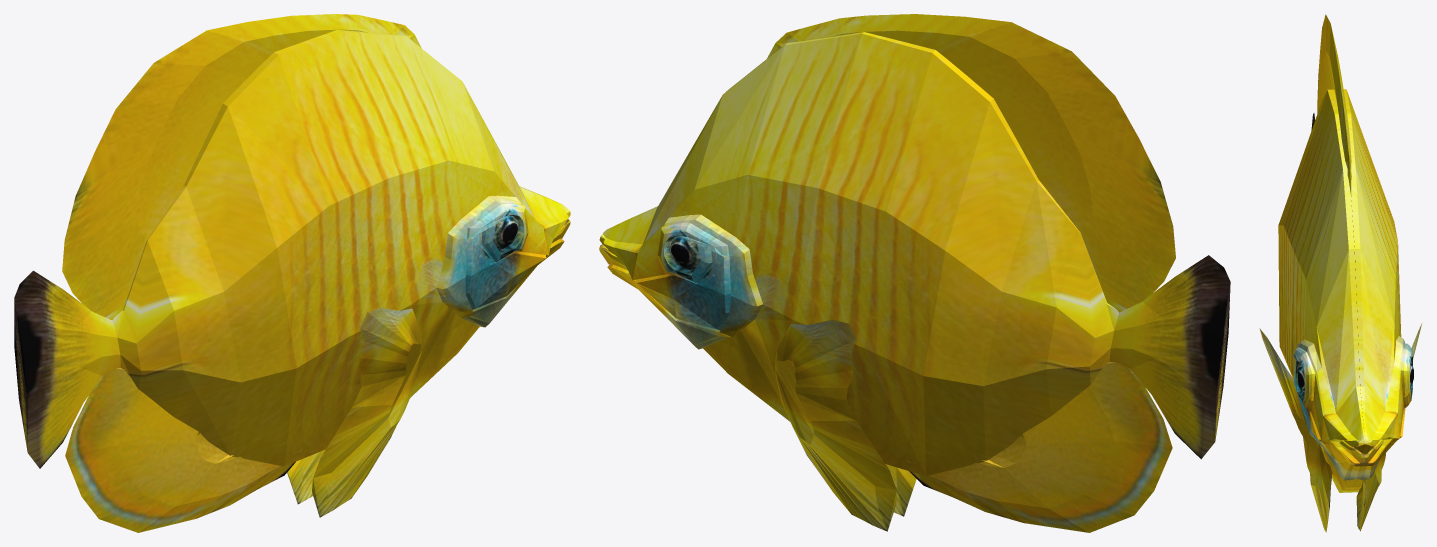
The model's file is KailinAngelFish2016Modified.fbx.
The picture shows the model from 3 angles, left to right: view 1: azimuth 30°, elevation 25°; view 2: azimuth 150°, elevation 25°; view 3: azimuth 270°, elevation 25°; orthographic projection. The views are drawn at different scales.
Visible parts, largest first — view 1: Fish—Final_3; view 2: Fish—Final_3, Fish—Final_4; view 3: Fish—Final_3, Fish—Final_4.
Boxes of the visible parts, x1,y1,x2,y2 form: Fish—Final_3: [14, 14, 570, 532]; Fish—Final_3: [599, 14, 1230, 532]; Fish—Final_4: [669, 236, 700, 271]; Fish—Final_3: [1259, 14, 1421, 532]; Fish—Final_4: [1298, 362, 1413, 393].
Bounding box in the file's own units: 125 × 104 × 33.8.
Materials: 1 (1 with a texture image).
